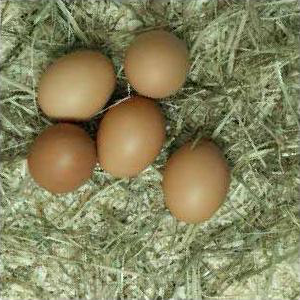egg: (164, 139, 229, 225), (99, 97, 167, 178), (99, 96, 165, 178), (38, 51, 115, 120), (29, 125, 98, 193), (29, 124, 98, 191), (125, 31, 189, 98)
